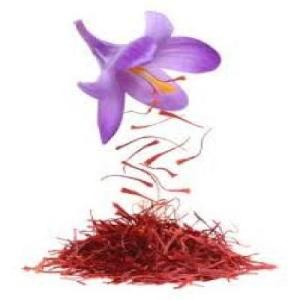Saffron: (75, 11, 221, 145)
